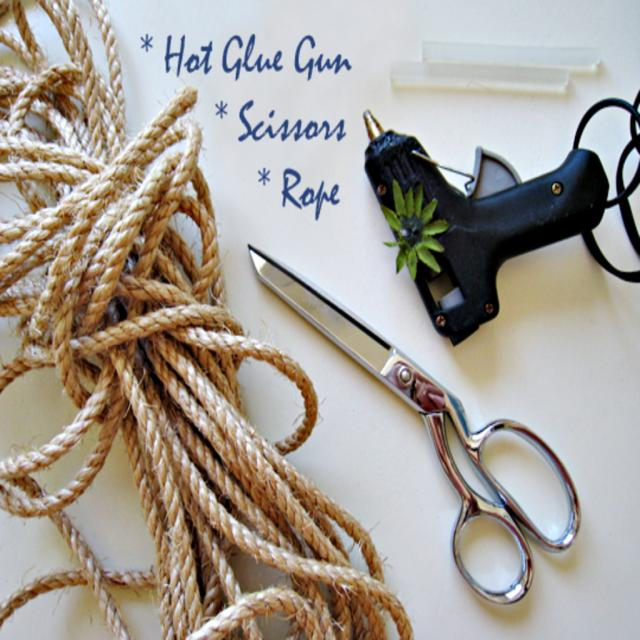scissors: (247, 242, 581, 606)
